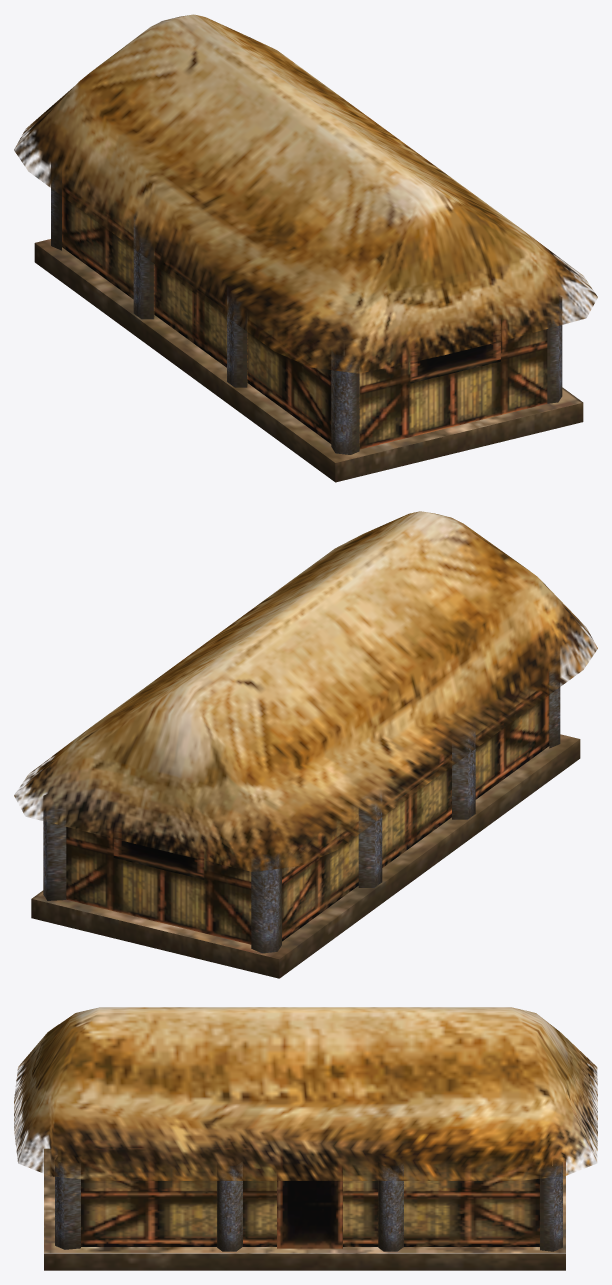
The model's file is Environment - Prop - Gras Hut 04 - PMGrasHut04.glb.
3 renders of one model, top to bottom at view 1: azimuth 30°, elevation 25°; view 2: azimuth 150°, elevation 25°; view 3: azimuth 270°, elevation 25°, orthographic. The views are drawn at different scales.
Parts seen in each view (by area): view 1: PMGRASHUT04; view 2: PMGRASHUT04; view 3: PMGRASHUT04.
Boxes of the visible parts, left/top/right/bottom form: PMGRASHUT04: left=14, top=14, right=597, bottom=482; PMGRASHUT04: left=14, top=511, right=597, bottom=978; PMGRASHUT04: left=14, top=1007, right=597, bottom=1270.
Size of the model in its own units: 28.38 by 20.98 by 53.52.
1 material, 1 textured.
